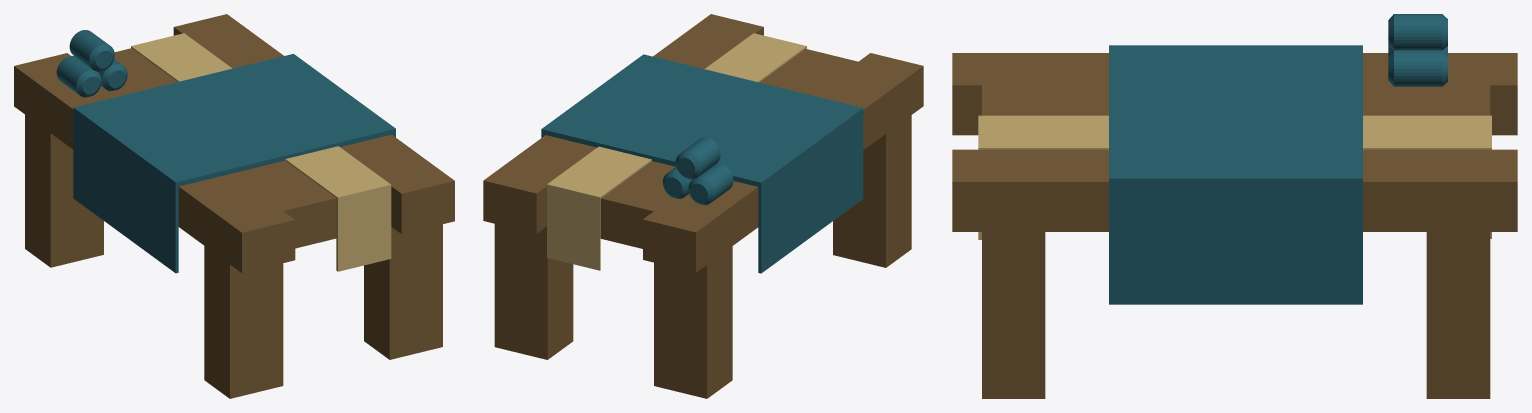
The model's file is work station.gltf.
3 renders of one model, left to right at view 1: azimuth 30°, elevation 25°; view 2: azimuth 150°, elevation 25°; view 3: azimuth 270°, elevation 25°, orthographic. The views are drawn at different scales.
Visible parts, largest first — view 1: Cube.001, Cylinder.002, Cylinder, Cylinder.001; view 2: Cube.001, Cylinder.002, Cylinder, Cylinder.001; view 3: Cube.001, Cylinder.001, Cylinder.002.
Part boxes in pixels (box(x1,y1,x2,y2)): Cube.001: box(14, 14, 454, 398); Cylinder.002: box(69, 30, 114, 71); Cylinder: box(56, 56, 101, 97); Cylinder.001: box(98, 59, 127, 91); Cube.001: box(483, 14, 923, 398); Cylinder.002: box(675, 137, 720, 179); Cylinder: box(688, 163, 733, 205); Cylinder.001: box(662, 167, 692, 198); Cube.001: box(952, 45, 1517, 398); Cylinder.001: box(1388, 50, 1447, 86); Cylinder.002: box(1388, 14, 1447, 49).
Bounding box in the file's own units: 2.68 × 2.6 × 4.81.
